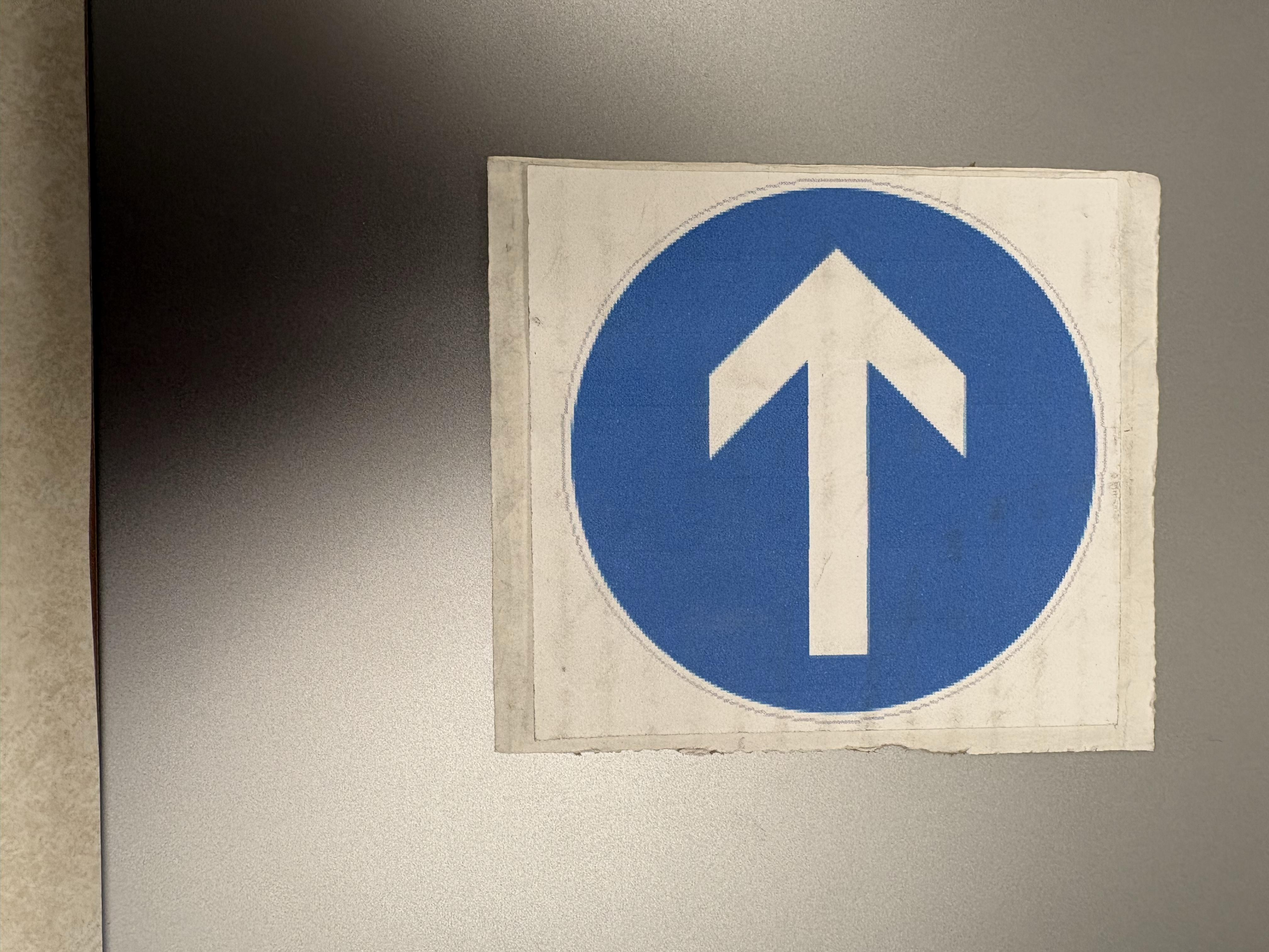Proceed Forward: (488, 159, 1159, 760)
